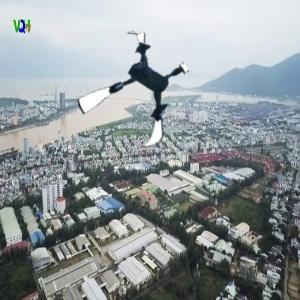drone: (79, 36, 193, 150)
